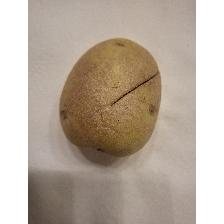Kartoffel: (58, 33, 166, 158)
